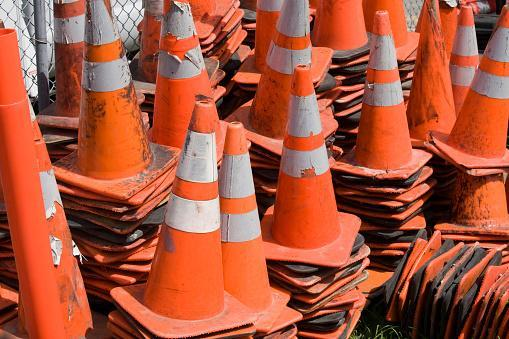Cone: (132, 101, 253, 332), (47, 1, 174, 196), (258, 64, 355, 268), (344, 9, 430, 186)
